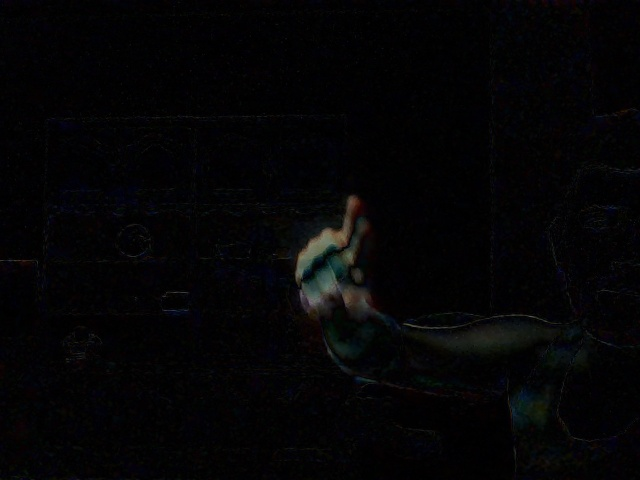hand_po: (282, 181, 381, 324)
